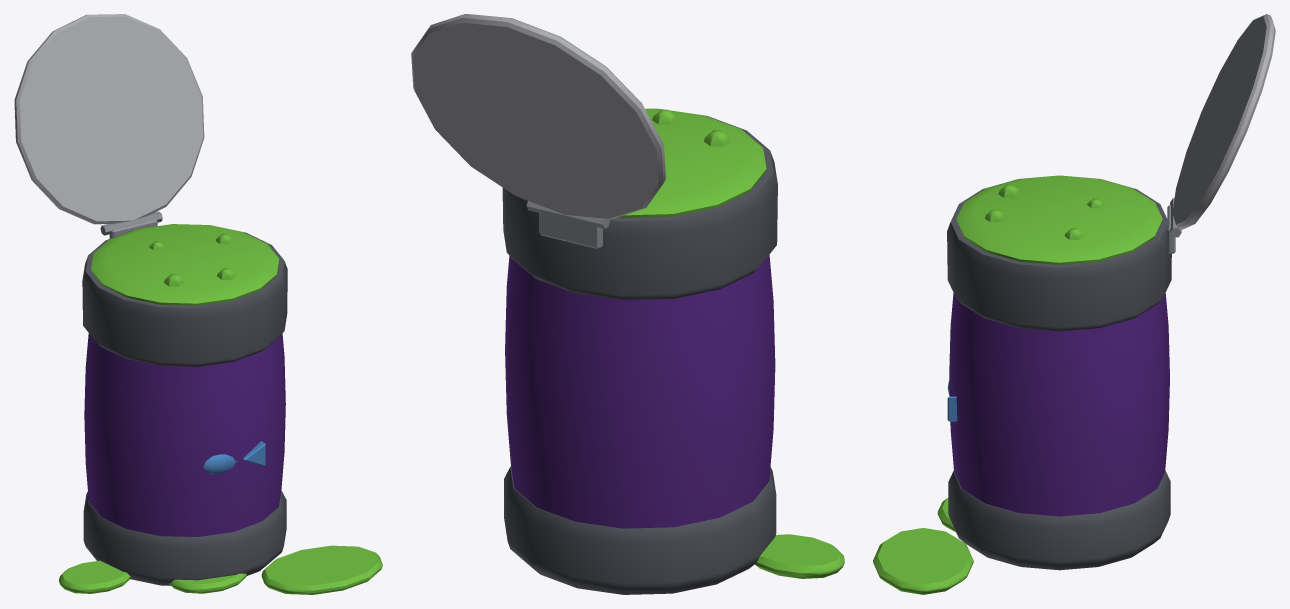
File: gen_toxic_can.mobile-low.glb
3 views of the same model, side by side, from view 1: azimuth 30°, elevation 25°; view 2: azimuth 150°, elevation 25°; view 3: azimuth 270°, elevation 25° (orthographic). The views are drawn at different scales.
Visible parts, largest first — view 1: gen_toxic_can; view 2: gen_toxic_can; view 3: gen_toxic_can.
Boxes of the visible parts, x1=… form: gen_toxic_can: x1=14, y1=14, x2=382, y2=594; gen_toxic_can: x1=411, y1=14, x2=844, y2=594; gen_toxic_can: x1=873, y1=14, x2=1275, y2=594.
Bounding box in the file's own units: 0.4658 × 0.7719 × 0.5615.
Materials: 1 (1 with a texture image).
